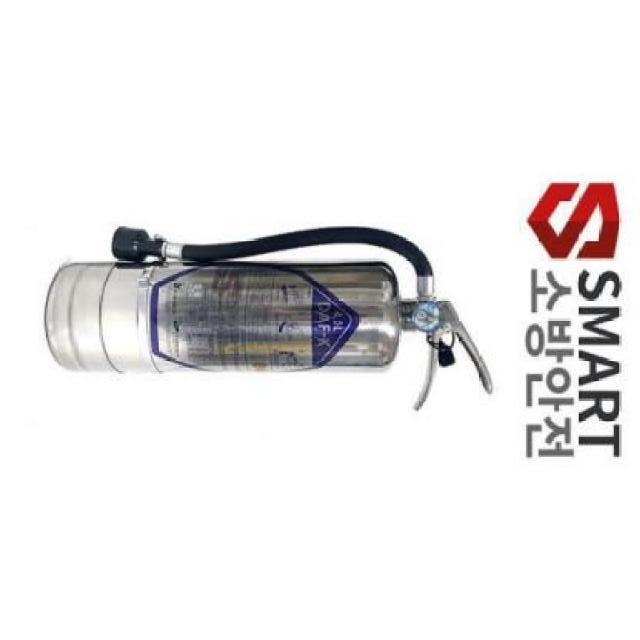fire extinguisher: (44, 225, 493, 411)
